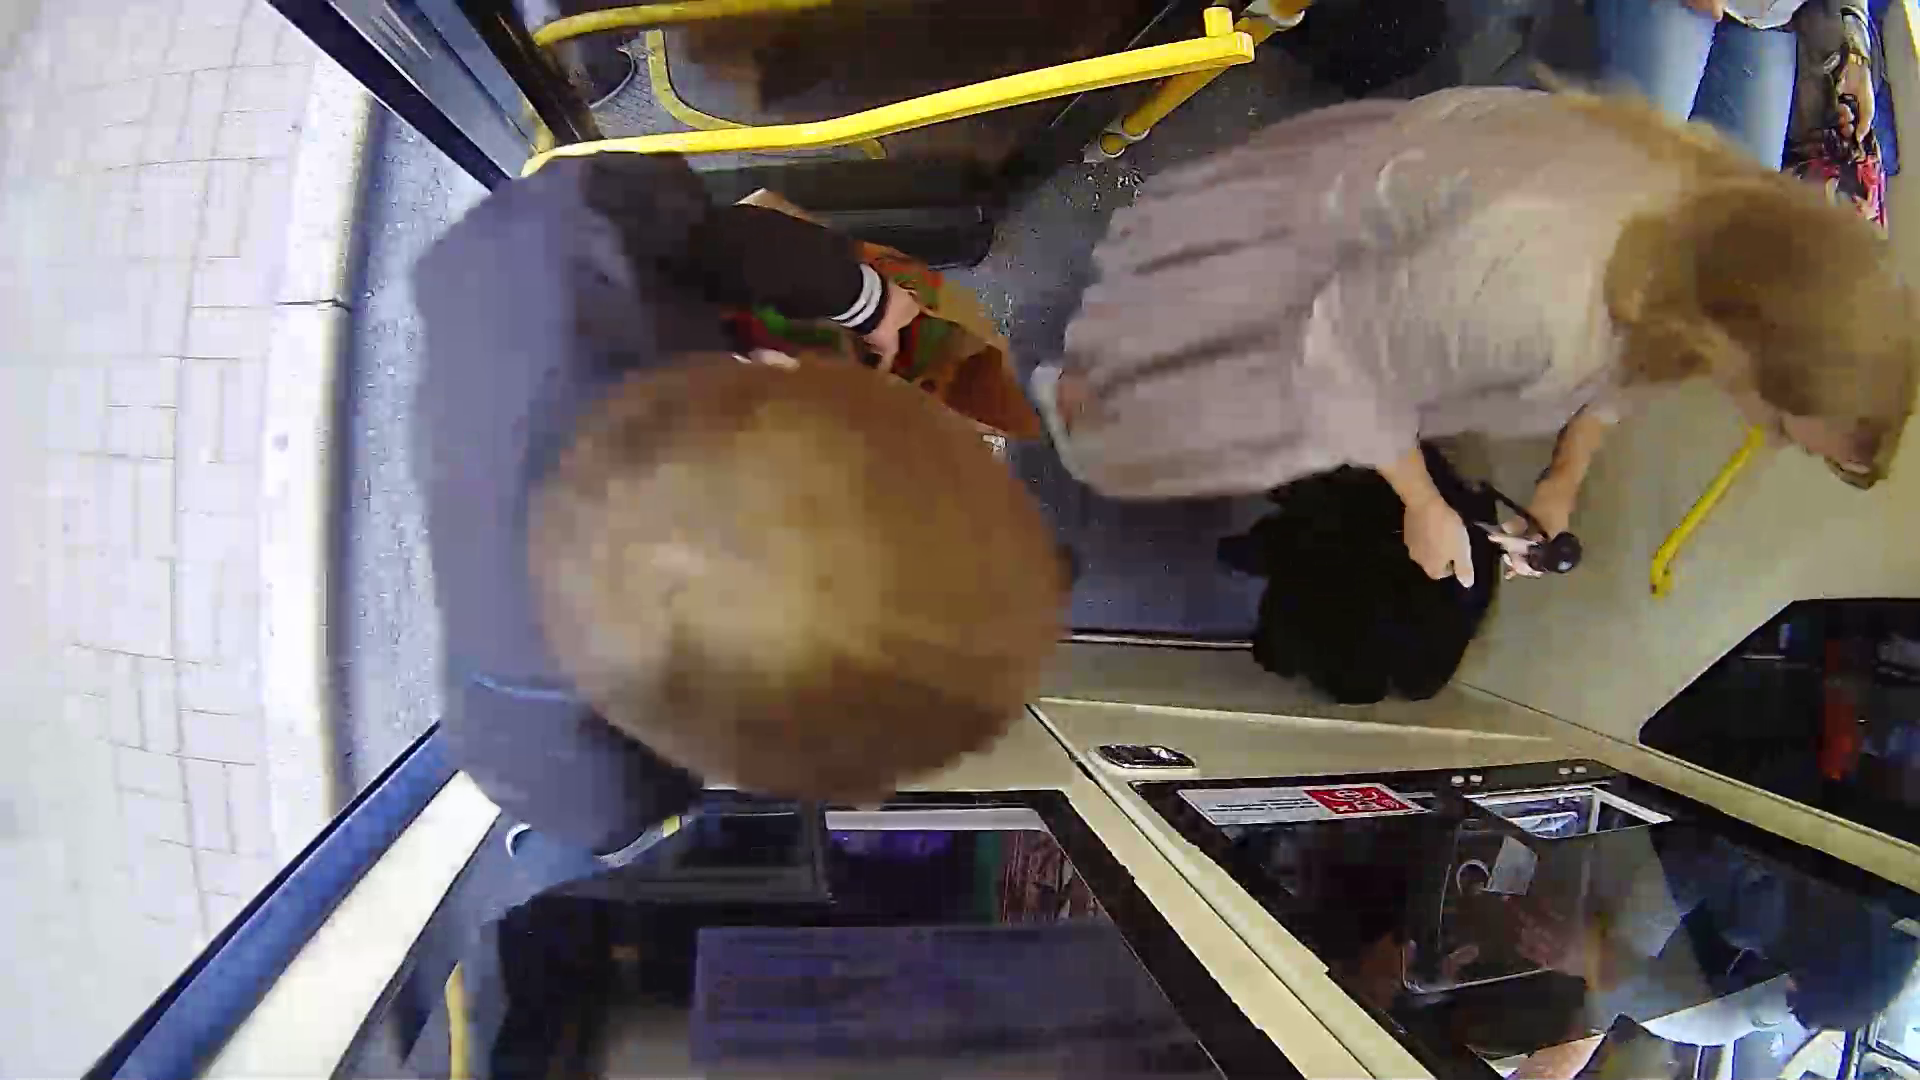person: (1083, 70, 1911, 700), (378, 164, 1086, 826)
